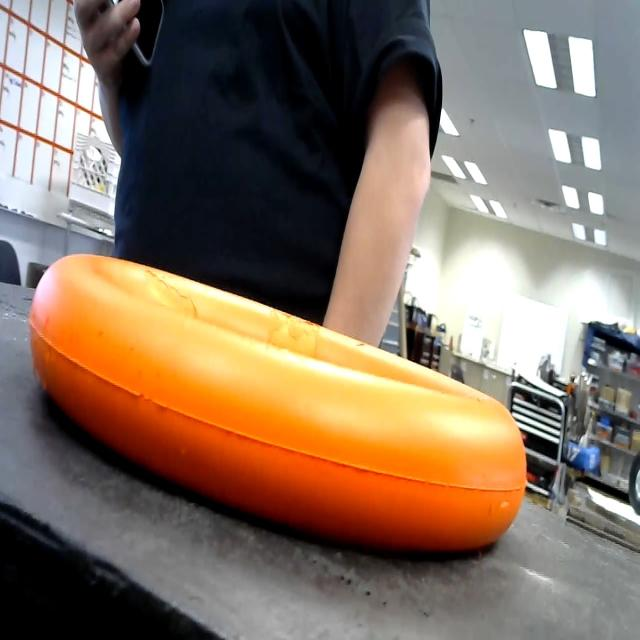note: (13, 229, 553, 566)
